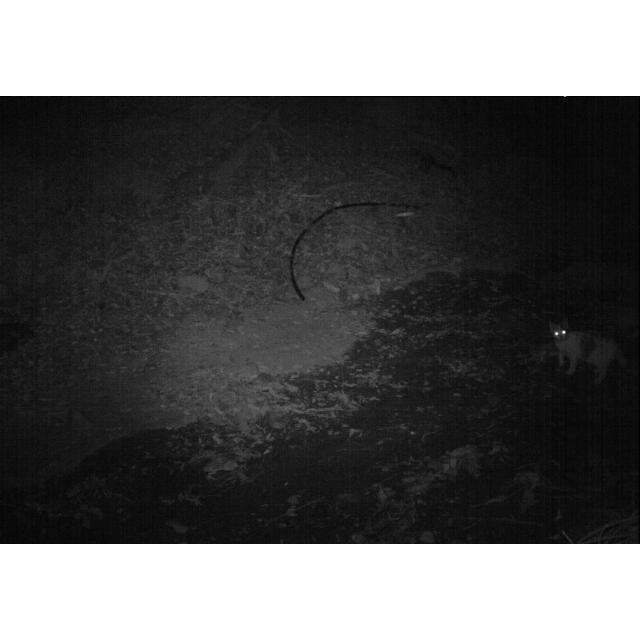animals: (550, 324, 624, 378)
